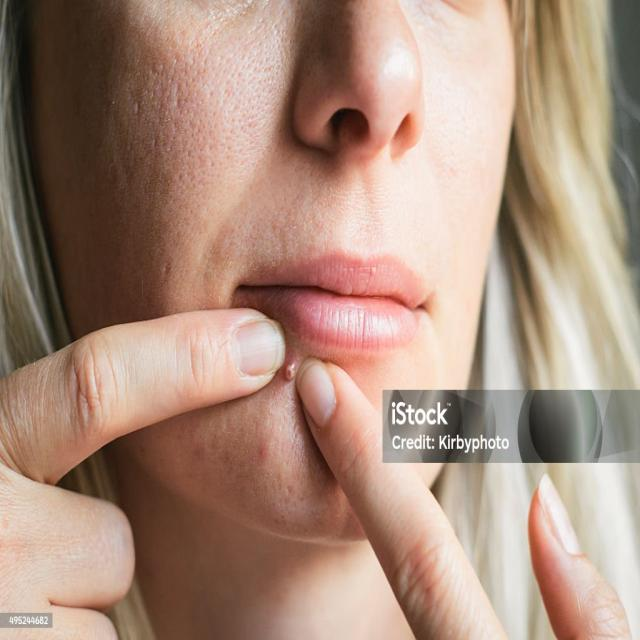pustule: (281, 357, 298, 385)
